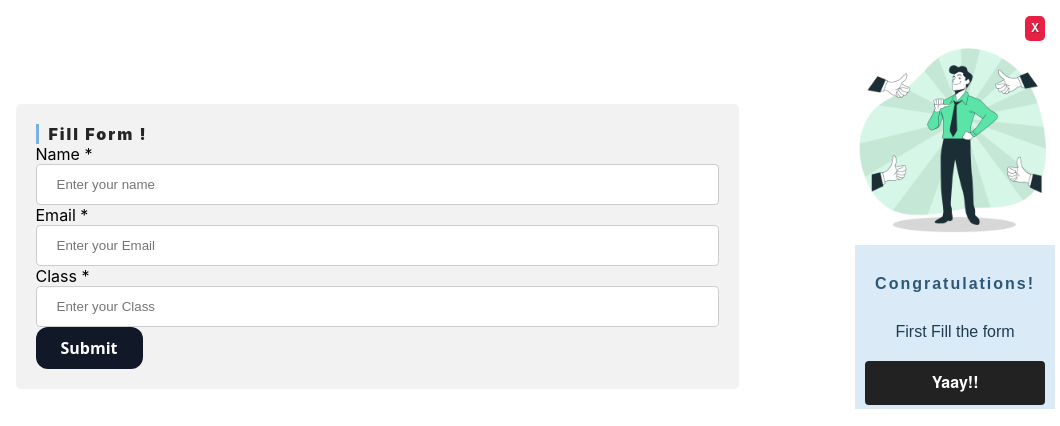
App component check all the test case › should check form first and second field is fill but third field not fill
In the field with placeholder "Enter your name": [377, 184] box [36,164,718,204], type "sunny"
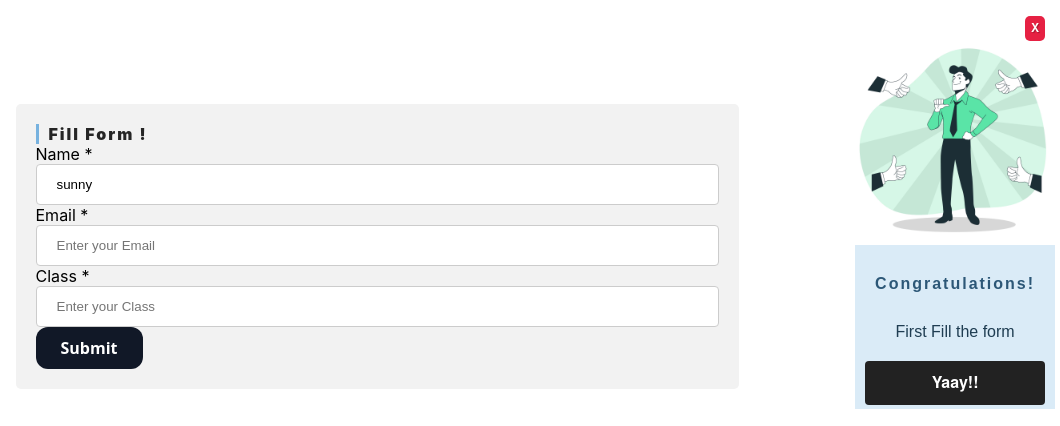
In the field with placeholder "Enter your Email": [377, 245] box [36,224,718,266], type "sunny@gmail.com"
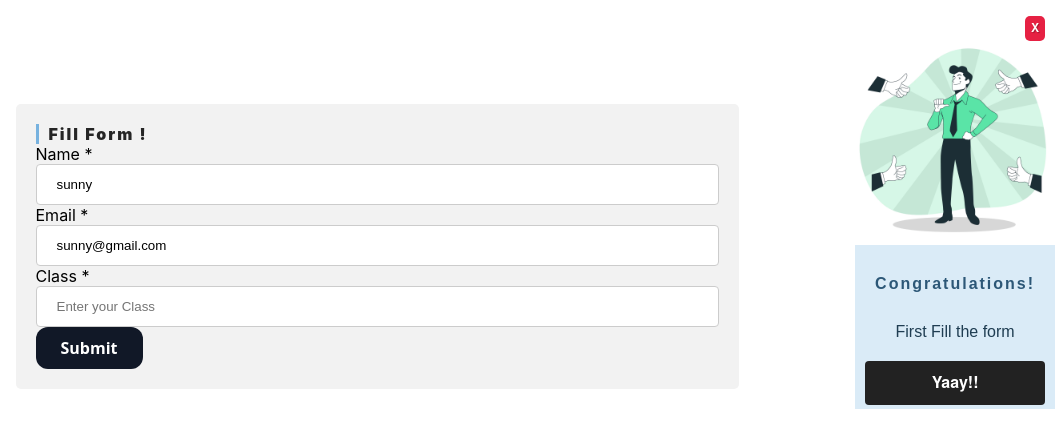
Click the button "Submit": [89, 348] box [36,326,142,368]
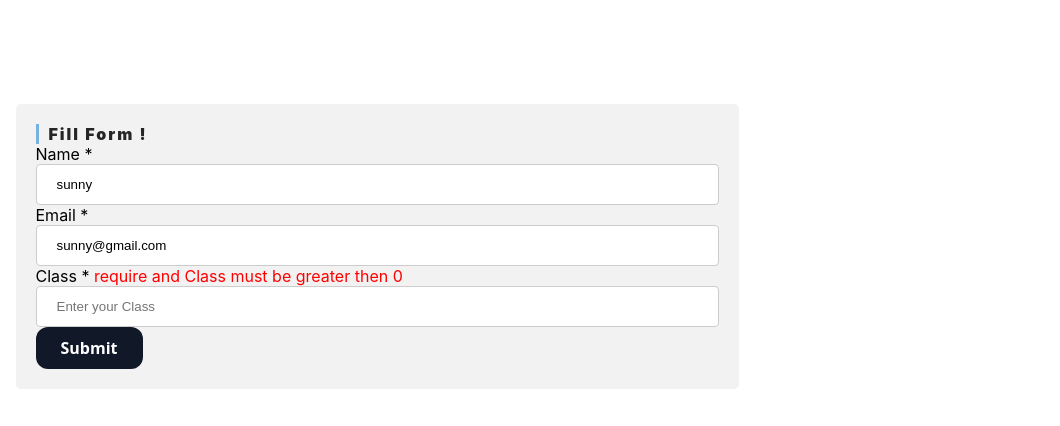
Check: the text "require and Class must be greater then 0" is shown, box [94,266,403,286]
